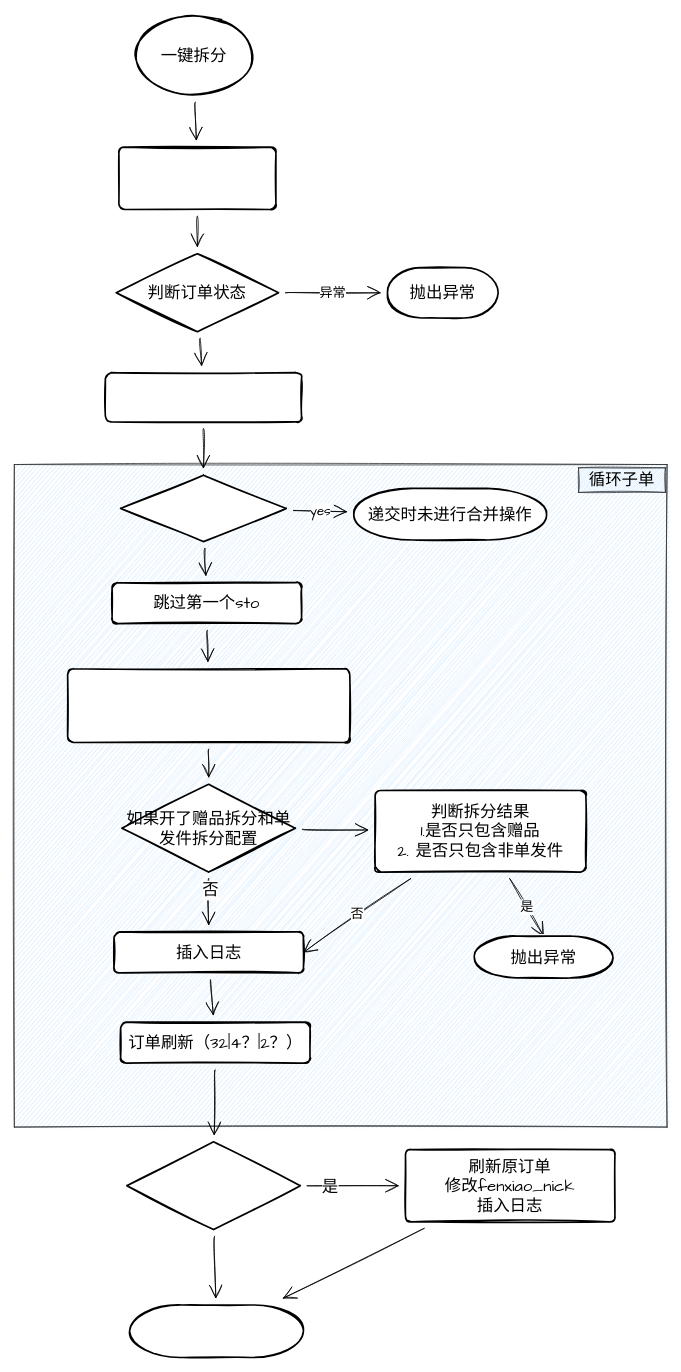
Image size: 681x1372. Some labels were removed from this diagram. Each missing label, with the box of its shape:
sto.size == 1?: (119, 474, 287, 542)
是否生成新的sto: (126, 1141, 301, 1230)
根据 ids 查询订单 （单个操作，加锁）: (118, 146, 276, 210)
根据 trade_id 查询订单 插入一条新的 st，得到new_trade_id 修改该 sto 的 trade_id: (66, 667, 350, 743)
根据订单 id 查询子单: (104, 371, 302, 422)
进行下一次 st 循环: (128, 1304, 304, 1358)
